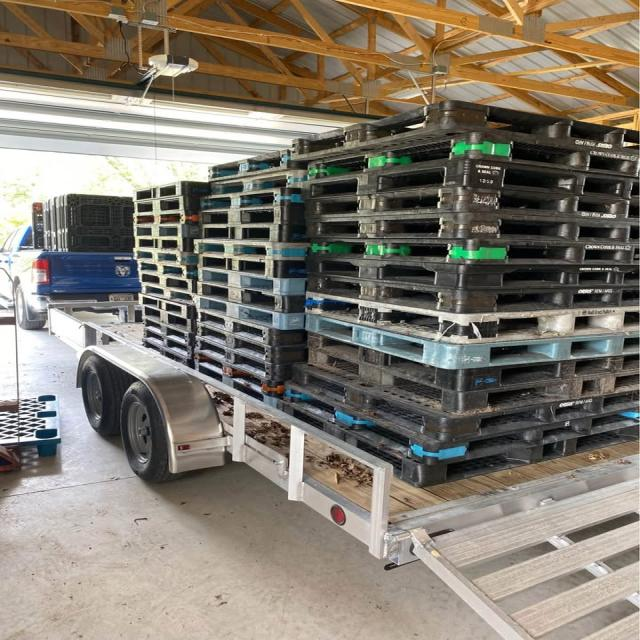non-igps: (275, 390, 640, 492), (274, 374, 640, 469), (293, 359, 640, 444), (278, 96, 640, 169), (301, 344, 640, 421), (295, 325, 640, 395), (294, 307, 640, 370), (298, 123, 640, 185), (298, 287, 640, 347), (297, 151, 640, 209), (299, 268, 629, 324), (301, 251, 637, 300), (299, 228, 638, 276), (298, 182, 634, 228), (301, 205, 640, 250), (190, 331, 312, 385), (190, 320, 312, 370), (188, 357, 283, 413), (188, 346, 288, 399), (194, 306, 310, 351), (192, 261, 314, 300), (192, 293, 305, 334), (195, 278, 309, 318), (189, 235, 315, 267), (202, 144, 312, 180), (196, 250, 311, 284), (207, 164, 321, 198), (197, 184, 307, 219), (200, 218, 313, 248), (194, 202, 312, 228), (139, 321, 195, 361), (136, 336, 198, 372), (136, 289, 200, 322), (131, 176, 213, 201), (139, 314, 199, 348), (139, 301, 198, 335), (131, 193, 213, 216), (138, 280, 200, 308), (129, 245, 201, 268), (130, 221, 205, 243), (128, 207, 208, 227), (136, 270, 201, 294), (135, 258, 202, 280), (132, 236, 208, 251)
